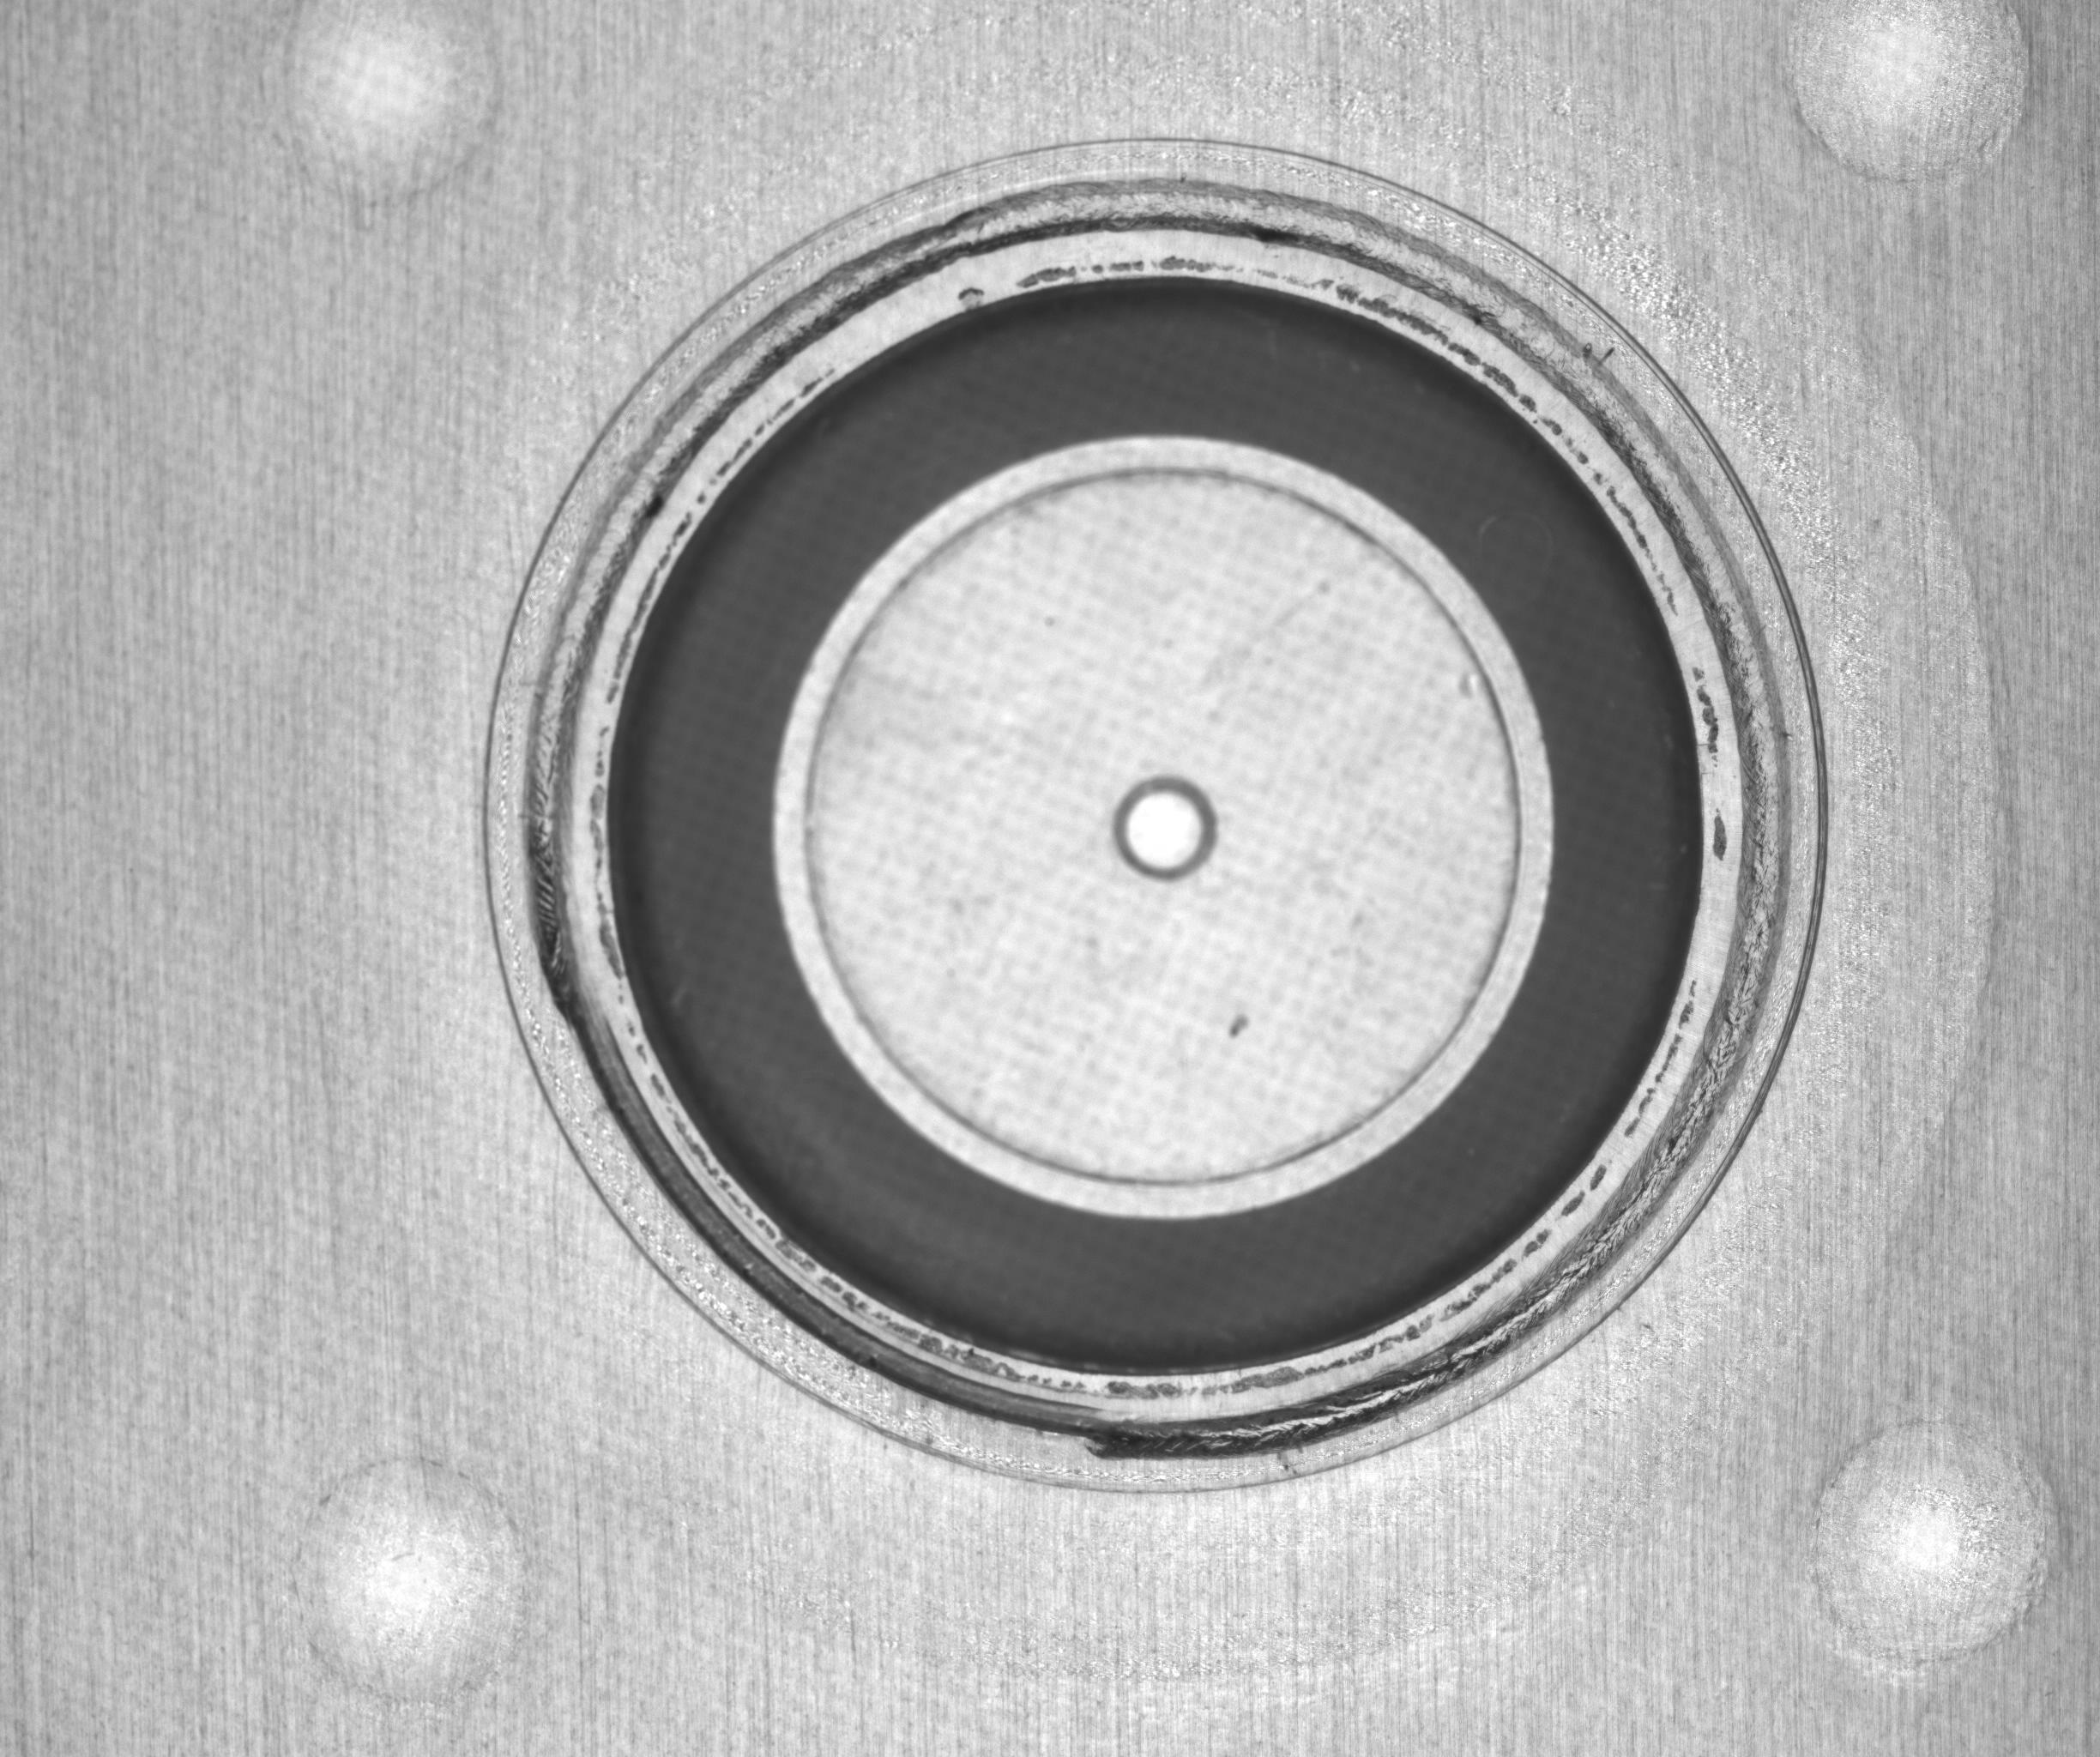lackofweld: (528, 984, 1095, 1467)
